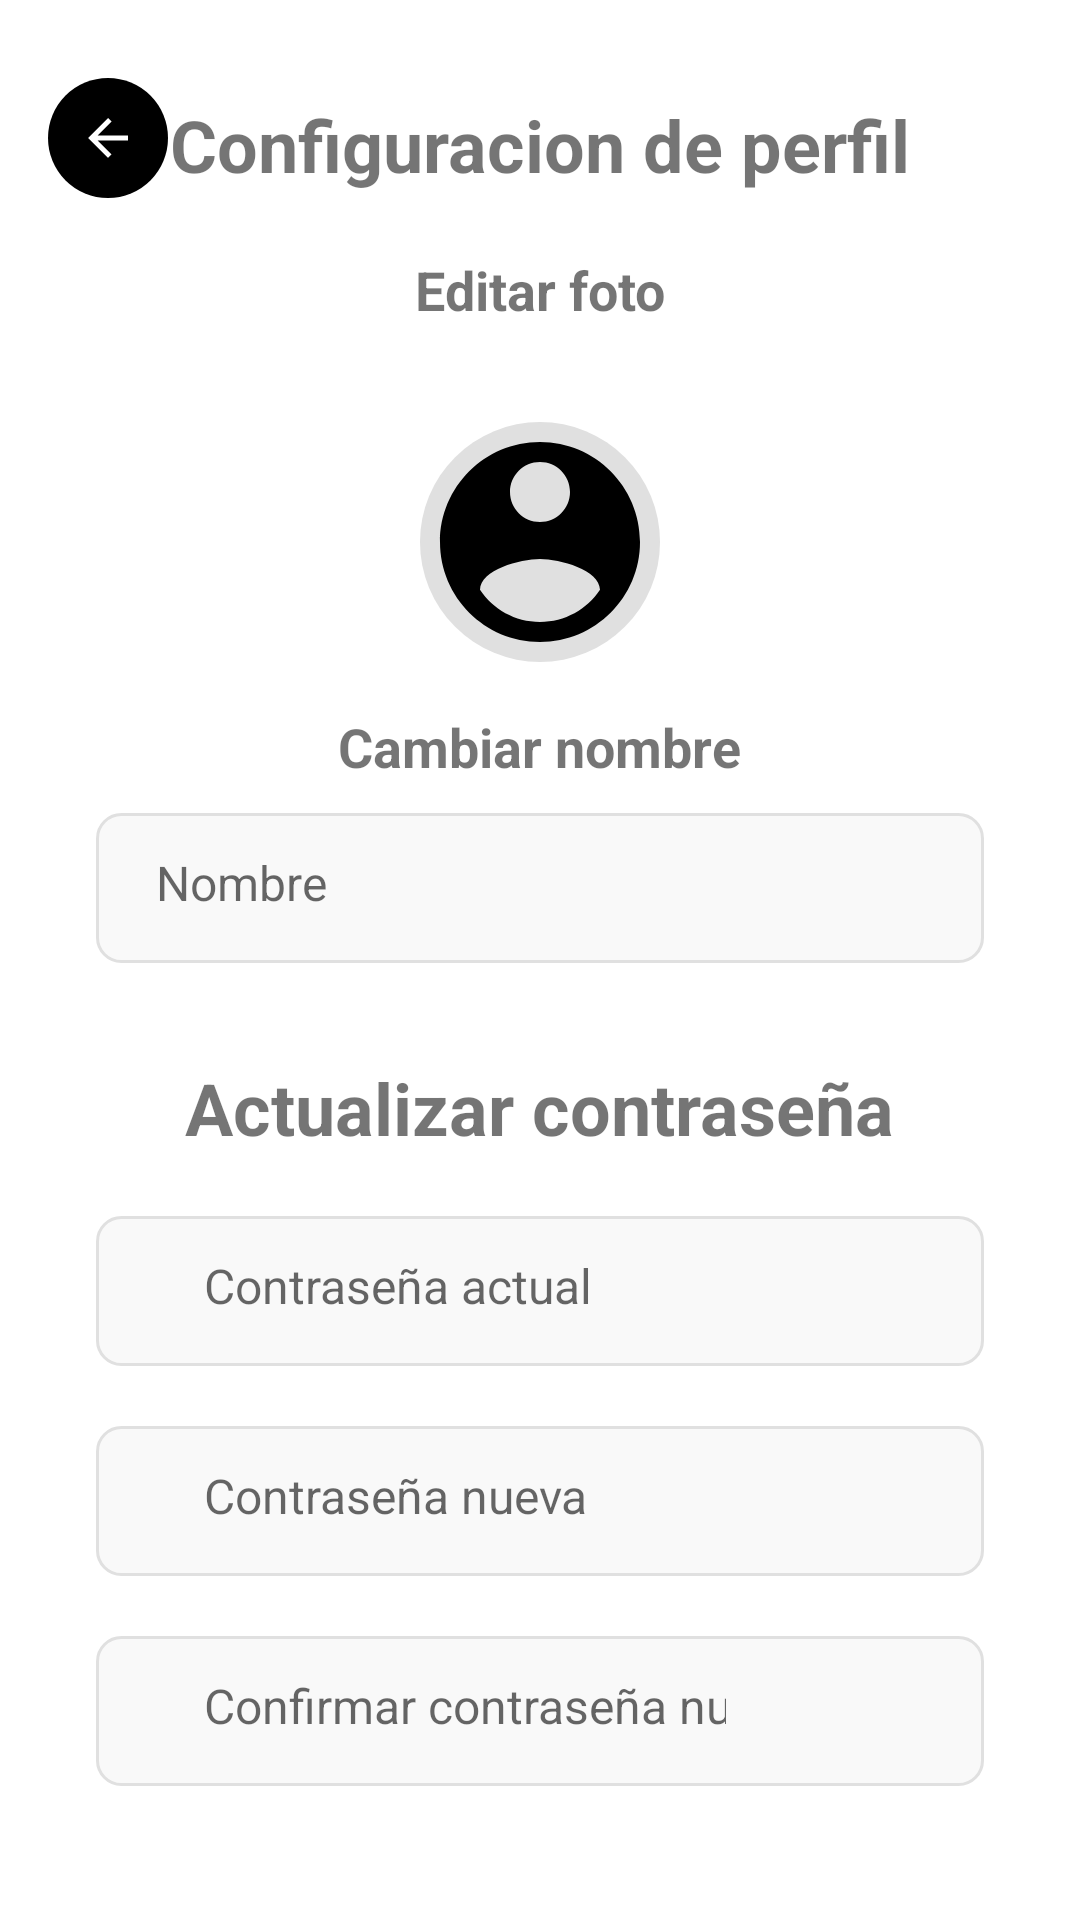

Named icons in this screenshot (1080x1920) and their bounding boxes, (x1, y1, x2, y2):
Back: (48, 78, 168, 198)
